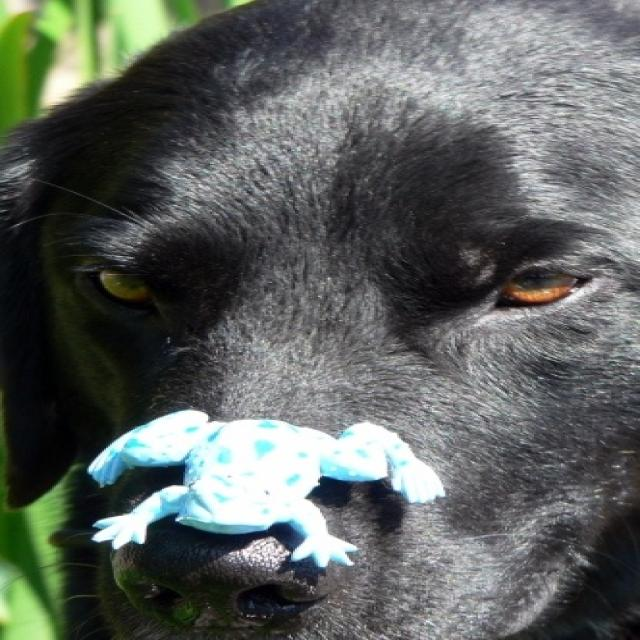dog: (4, 0, 636, 639)
